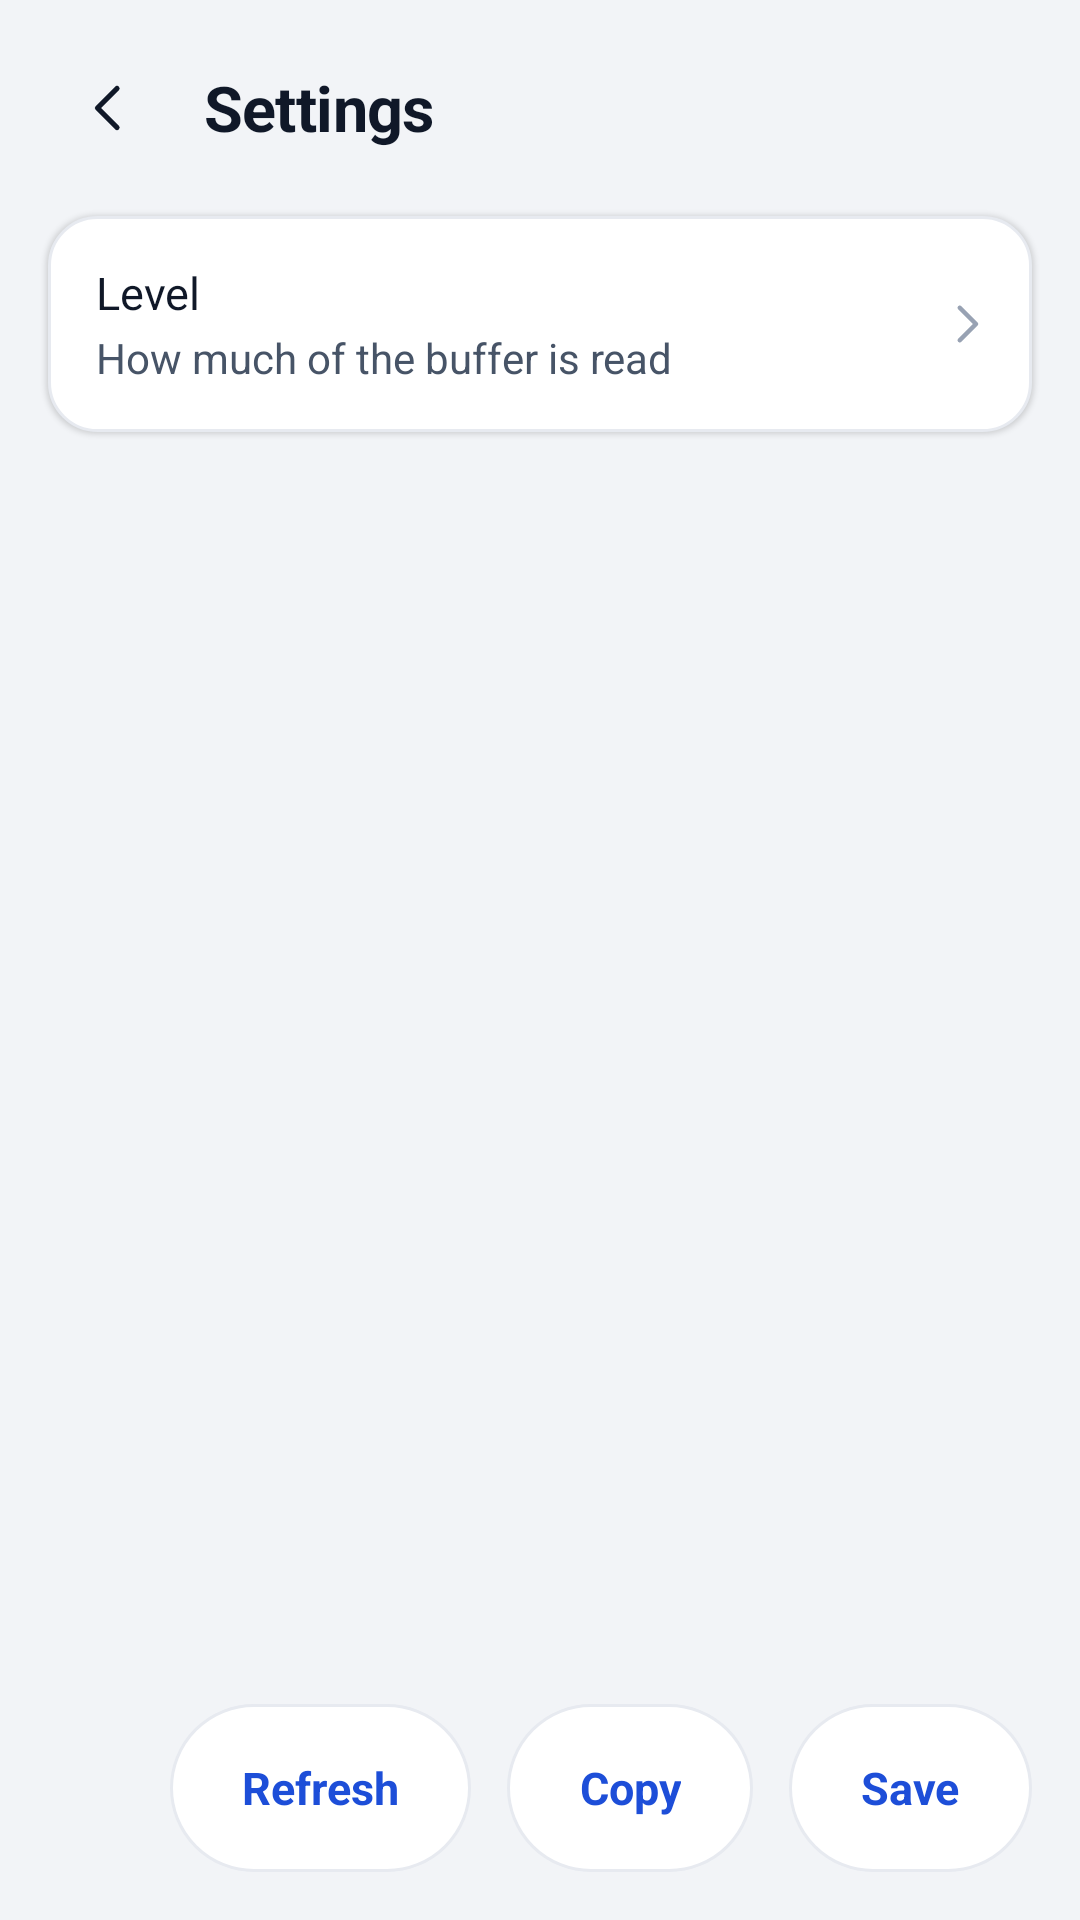

Screen size 1080 x 1920. Icon name, then its box in pixels as bbox(x1, y1, x2, y2):
Back: bbox(95, 85, 120, 131)
forward: bbox(957, 305, 978, 343)
